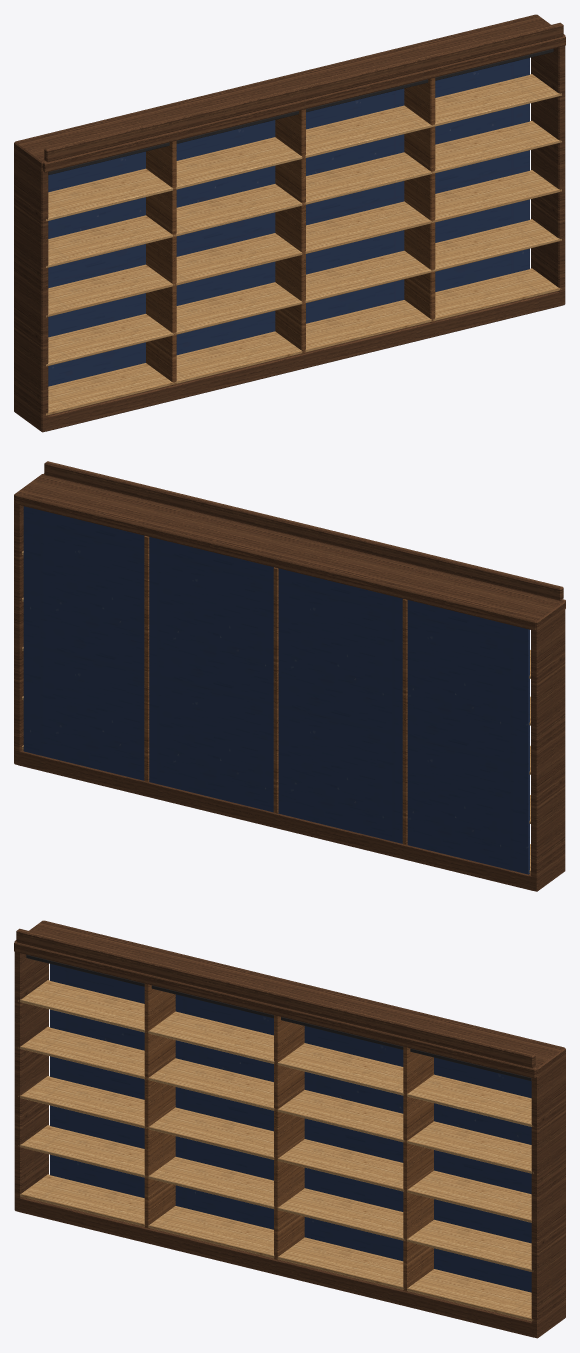
File: collection_cabinet.glb
The picture shows the model from 3 angles, top to bottom: view 1: azimuth 30°, elevation 25°; view 2: azimuth 150°, elevation 25°; view 3: azimuth 330°, elevation 25°; orthographic projection.
Visible parts, largest first — view 1: p; view 2: p; view 3: p.
Part boxes in pixels (x1=…): p: x1=14, y1=14, x2=565, y2=432; p: x1=14, y1=461, x2=565, y2=891; p: x1=14, y1=920, x2=565, y2=1338.
Size of the model in its own units: 4.46 by 2.3 by 0.45.
Materials: 5 (5 with a texture image).
